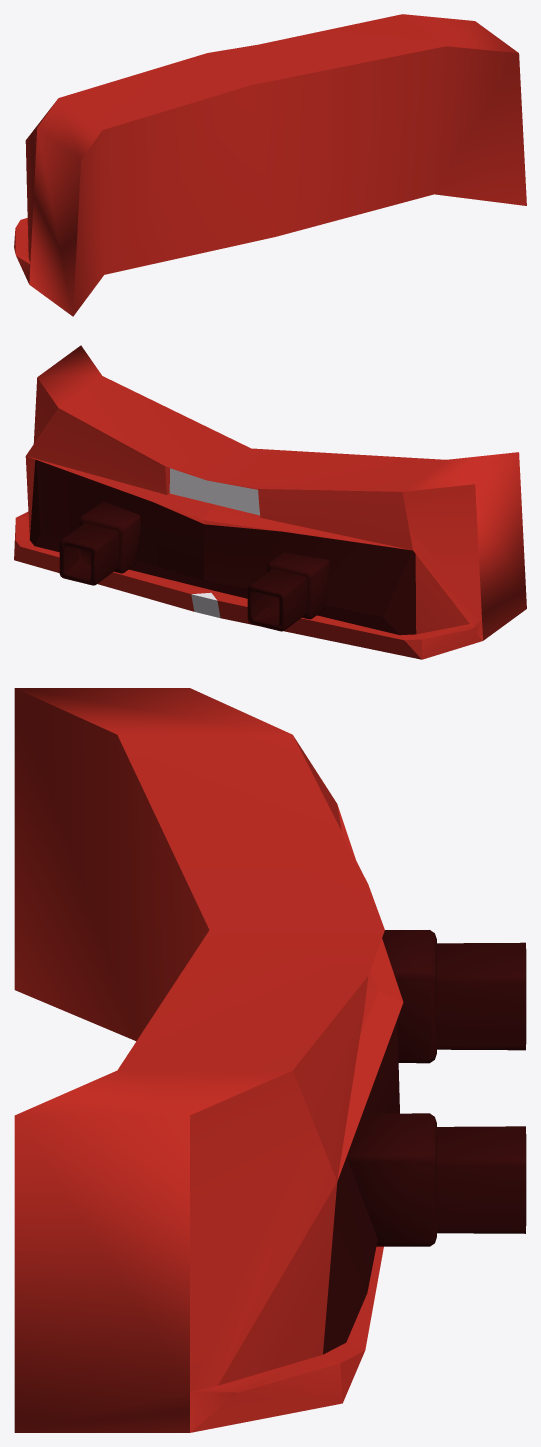
File: bumper2.3.fbx
3 views of the same model, one above another, from view 1: azimuth 30°, elevation 25°; view 2: azimuth 150°, elevation 25°; view 3: azimuth 270°, elevation 25° (orthographic). The views are drawn at different scales.
Visible parts, largest first — view 1: bumper3.001; view 2: bumper3.001; view 3: bumper3.001.
Part boxes in pixels (box(x1,y1,x2,y2)): bumper3.001: box(14, 14, 526, 316); bumper3.001: box(14, 345, 526, 659); bumper3.001: box(14, 688, 526, 1432).
Size of the model in its own units: 2.32 by 0.75 by 1.12.
